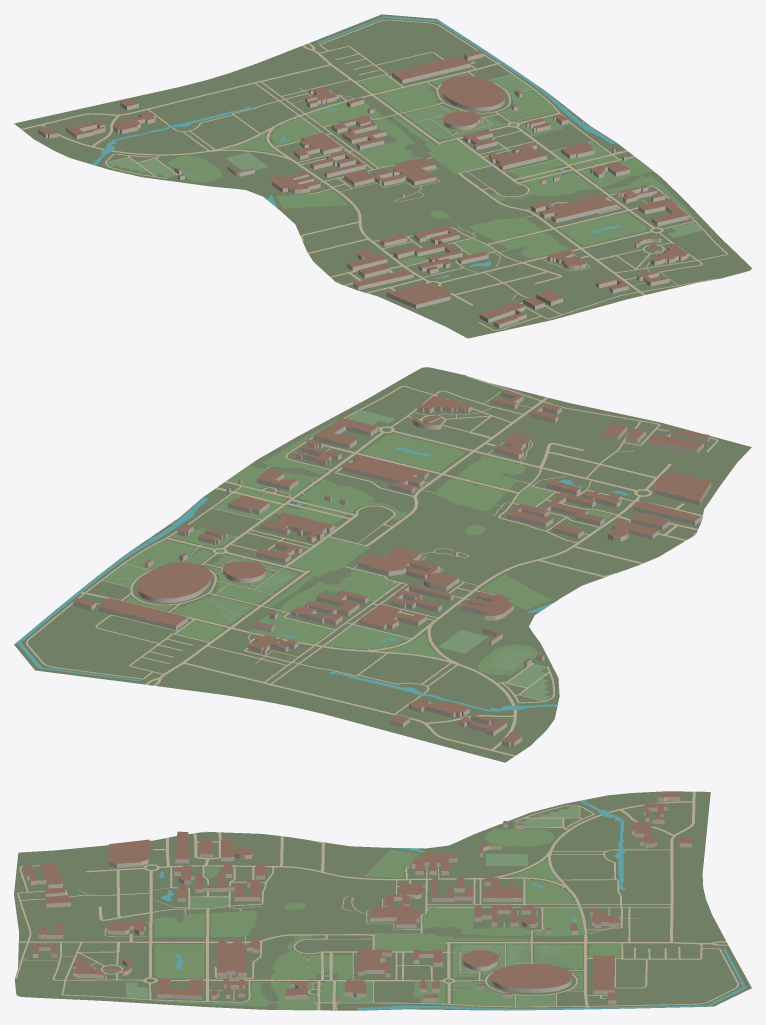
3 views of the same model, one above another, from view 1: azimuth 30°, elevation 25°; view 2: azimuth 150°, elevation 25°; view 3: azimuth 270°, elevation 25° (orthographic). The views are drawn at different scales.
Parts seen in each view (by area): view 1: campus-ground, environment (×4), roofs, buildings; view 2: campus-ground, environment (×4), roofs, buildings; view 3: campus-ground, environment (×4), roofs, buildings.
Part boxes in pixels (bbox=[...]): campus-ground: bbox=[14, 14, 751, 338]; environment (×4): bbox=[21, 16, 727, 330]; roofs: bbox=[38, 50, 688, 324]; buildings: bbox=[38, 53, 688, 328]; campus-ground: bbox=[14, 367, 751, 762]; environment (×4): bbox=[16, 376, 718, 756]; roofs: bbox=[73, 390, 710, 742]; buildings: bbox=[73, 392, 711, 746]; campus-ground: bbox=[14, 791, 751, 1010]; environment (×4): bbox=[15, 791, 745, 1010]; roofs: bbox=[24, 792, 692, 1000]; buildings: bbox=[23, 795, 692, 1004].
Size of the model in its own units: 1384 by 12.25 by 1966.
